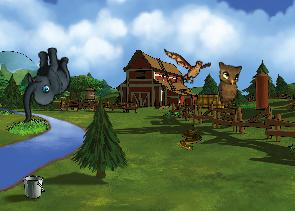eagle: (164, 48, 211, 84)
elephant: (10, 44, 78, 123)
owl: (213, 58, 249, 109)
